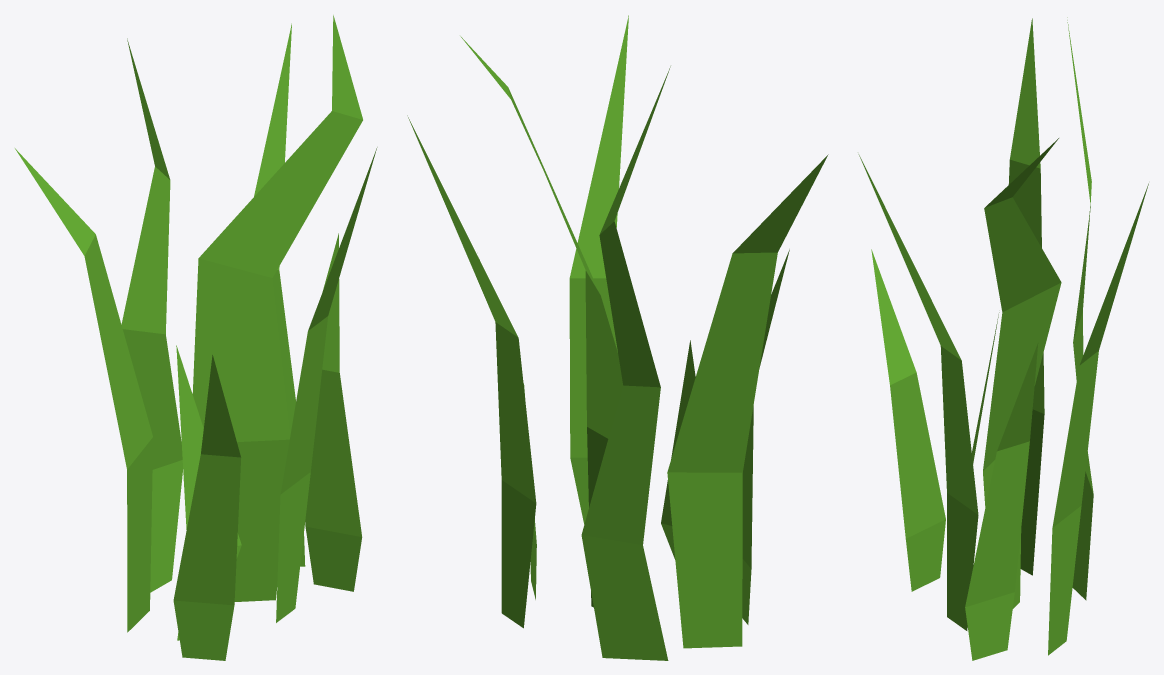
Rendered from grass_flat_light.fbx.
3 renders of one model, left to right at view 1: azimuth 30°, elevation 25°; view 2: azimuth 150°, elevation 25°; view 3: azimuth 270°, elevation 25°, orthographic. The views are drawn at different scales.
Parts seen in each view (by area): view 1: Plane.002; view 2: Plane.002; view 3: Plane.002.
Part boxes in pixels (x1=…): Plane.002: x1=15, y1=15, x2=377, y2=660; Plane.002: x1=407, y1=15, x2=828, y2=660; Plane.002: x1=858, y1=17, x2=1148, y2=660.
Bounding box in the file's own units: 14.03 × 22.74 × 10.62.
